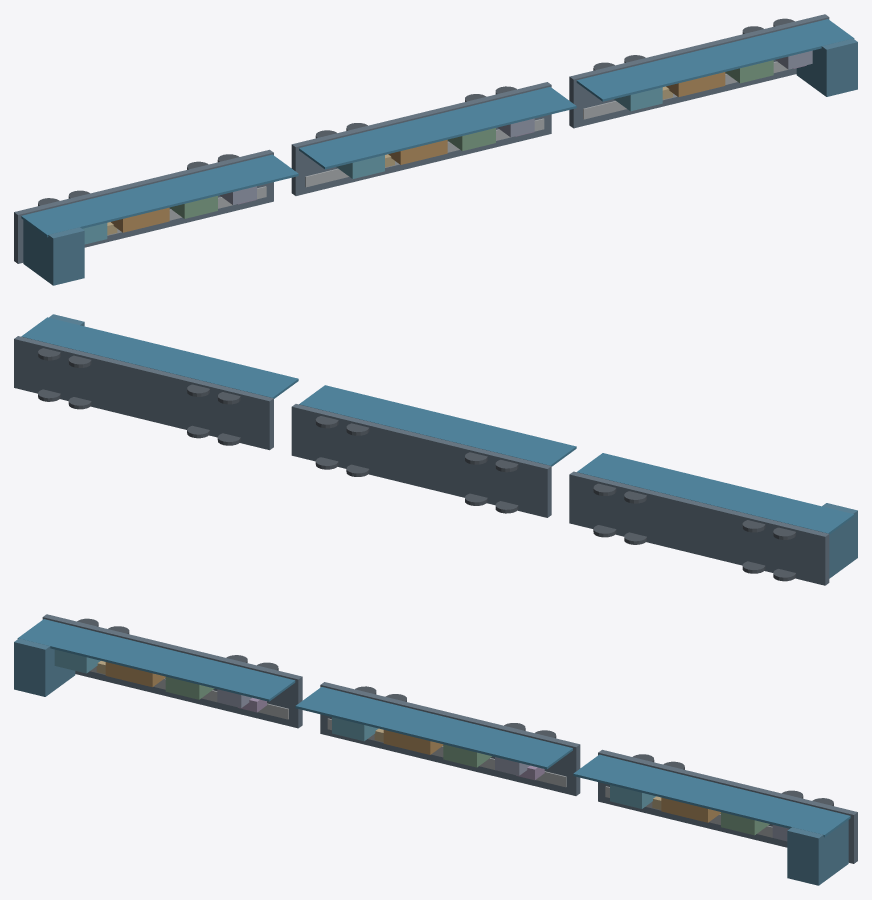
File: 3es5k_interior_cutaway.glb
3 views of the same model, one above another, from view 1: azimuth 30°, elevation 25°; view 2: azimuth 150°, elevation 25°; view 3: azimuth 330°, elevation 25° (orthographic).
Parts seen in each view (by area): view 1: Секция 2 дальняя стенка, Секция 1 дальняя стенка, Секция 3 дальняя стенка, Секция 2 основание, Секция 3 основание, Секция 1 основание, кабина, кабина_1, проход_1, Тяговый трансформатор 3, Тяговый трансформатор 2, Тяговый трансформатор 1 (+6 smaller); view 2: Секция 2 основание, Секция 1 основание, Секция 3 основание, Секция 1 дальняя стенка, Секция 2 дальняя стенка, Секция 3 дальняя стенка, кабина; view 3: Секция 2 дальняя стенка, Секция 3 дальняя стенка, Секция 1 дальняя стенка, Секция 2 основание, Секция 1 основание, Секция 3 основание, кабина_1, кабина, Тяговый трансформатор 1, Тяговый трансформатор 2, Тяговый трансформатор 3, Силовые аппараты 1 (+7 smaller).
Boxes of the visible parts, bbox=[...] form: Секция 2 дальняя стенка: bbox=[299, 87, 576, 169]; Секция 1 дальняя стенка: bbox=[21, 154, 298, 237]; Секция 3 дальняя стенка: bbox=[576, 19, 854, 101]; Секция 2 основание: bbox=[291, 82, 551, 195]; Секция 3 основание: bbox=[569, 14, 829, 128]; Секция 1 основание: bbox=[14, 149, 273, 263]; кабина: bbox=[23, 220, 84, 285]; кабина_1: bbox=[796, 38, 857, 96]; проход_1: bbox=[305, 118, 544, 187]; Тяговый трансформатор 3: bbox=[666, 72, 725, 97]; Тяговый трансформатор 2: bbox=[388, 139, 447, 164]; Тяговый трансформатор 1: bbox=[111, 207, 169, 232]; Секция 2 основание: bbox=[291, 404, 551, 517]; Секция 1 основание: bbox=[569, 471, 829, 585]; Секция 3 основание: bbox=[14, 336, 273, 450]; Секция 1 дальняя стенка: bbox=[577, 453, 854, 534]; Секция 2 дальняя стенка: bbox=[299, 385, 576, 466]; Секция 3 дальняя стенка: bbox=[21, 317, 298, 398]; кабина: bbox=[822, 503, 857, 578]; Секция 2 дальняя стенка: bbox=[295, 687, 572, 769]; Секция 3 дальняя стенка: bbox=[573, 754, 850, 837]; Секция 1 дальняя стенка: bbox=[17, 619, 295, 701]; Секция 2 основание: bbox=[320, 682, 580, 795]; Секция 1 основание: bbox=[42, 614, 302, 728]; Секция 3 основание: bbox=[598, 749, 857, 863]; кабина_1: bbox=[787, 820, 848, 885]; кабина: bbox=[14, 638, 75, 696]; Тяговый трансформатор 1: bbox=[105, 662, 165, 687]; Тяговый трансформатор 2: bbox=[383, 730, 443, 754]; Тяговый трансформатор 3: bbox=[661, 797, 720, 822]; Силовые аппараты 1: bbox=[54, 649, 100, 673].
Size of the model in its own units: 55.5 by 3.2 by 5.26.
